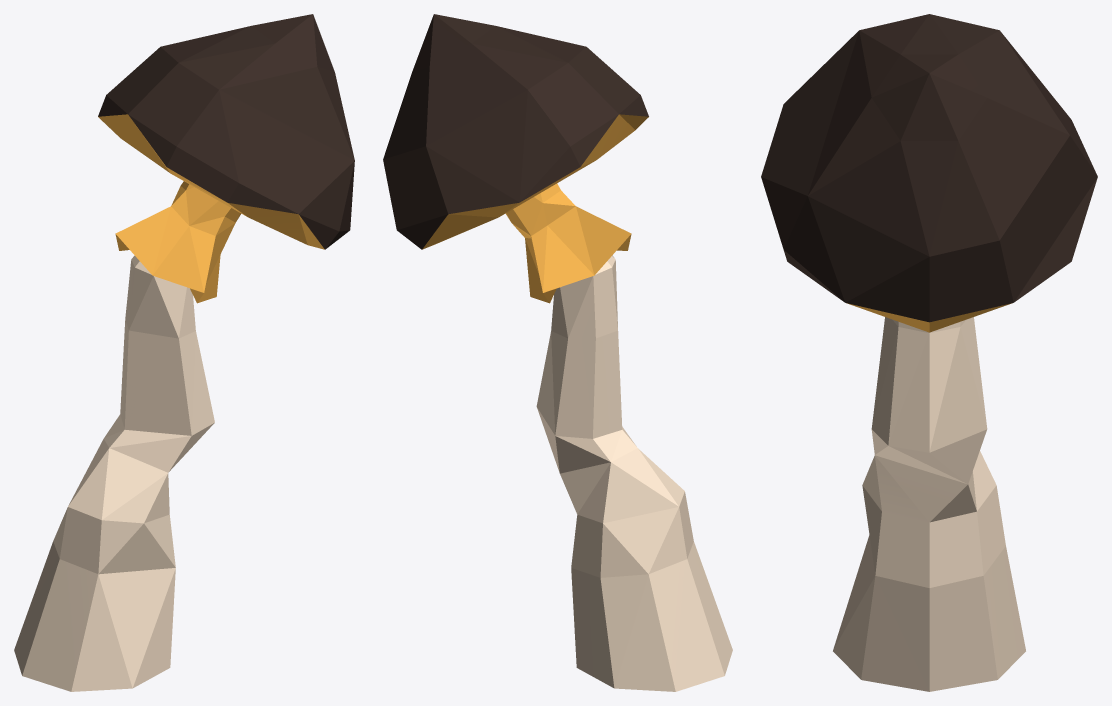
Rendered from DefMashroom2.fbx.
3 renders of one model, left to right at view 1: azimuth 30°, elevation 25°; view 2: azimuth 150°, elevation 25°; view 3: azimuth 270°, elevation 25°, orthographic. The views are drawn at different scales.
Visible parts, largest first — view 1: DefMashroom2; view 2: DefMashroom2; view 3: DefMashroom2.
Part boxes in pixels (<box>): DefMashroom2: <box>14,14,354,691</box>; DefMashroom2: <box>383,14,732,691</box>; DefMashroom2: <box>761,14,1097,691</box>.
Size of the model in its own units: 36.49 by 63.66 by 27.51.
